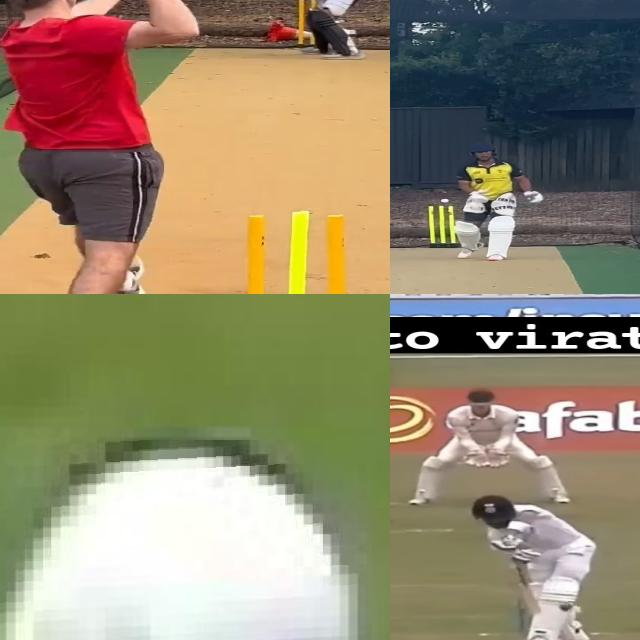Cricket ball: (0, 440, 372, 640), (558, 601, 577, 613), (439, 198, 452, 204)
Stumps: (232, 208, 360, 294), (429, 205, 458, 248)
